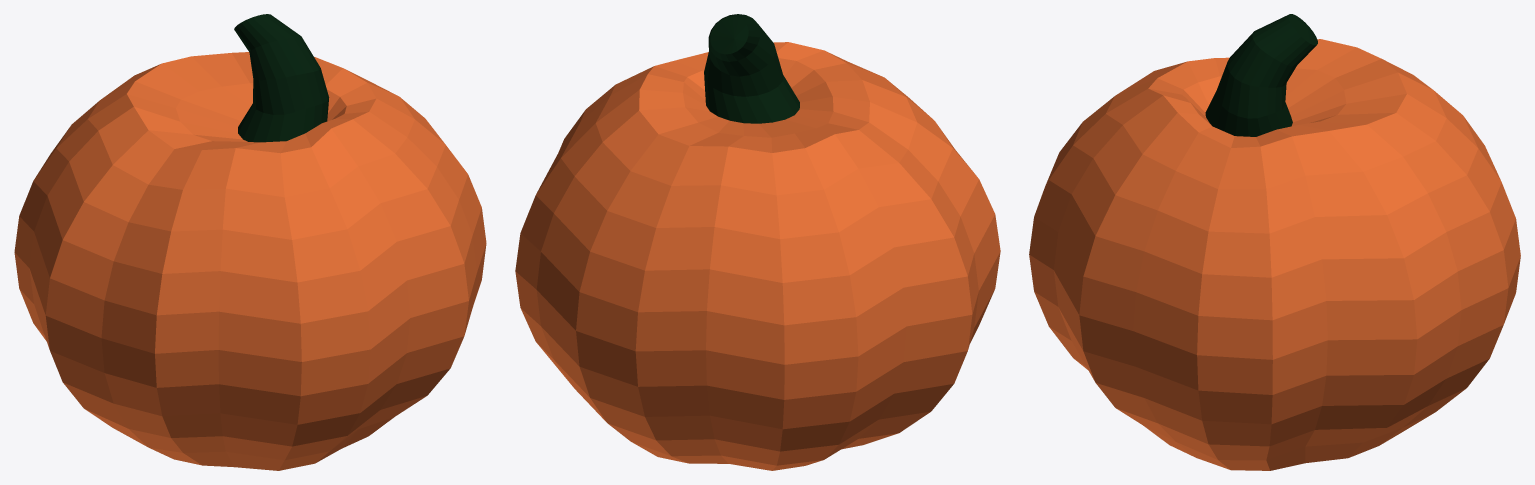
Rendered from Pumpckin.fbx.
3 views of the same model, side by side, from view 1: azimuth 30°, elevation 25°; view 2: azimuth 150°, elevation 25°; view 3: azimuth 270°, elevation 25° (orthographic). The views are drawn at different scales.
Visible parts, largest first — view 1: Sphere; view 2: Sphere; view 3: Sphere.
Boxes of the visible parts, <box> form: Sphere: <box>14,14,486,470</box>; Sphere: <box>515,14,1000,470</box>; Sphere: <box>1029,14,1520,470</box>.
Size of the model in its own units: 306 by 282 by 305.
